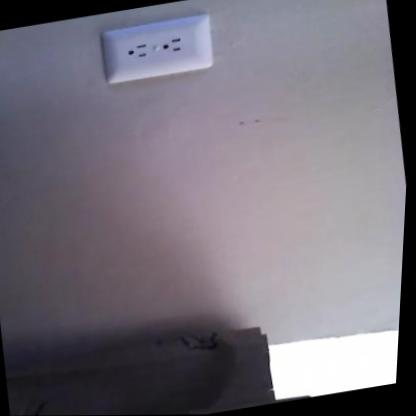OUTLET: (98, 13, 217, 85)
